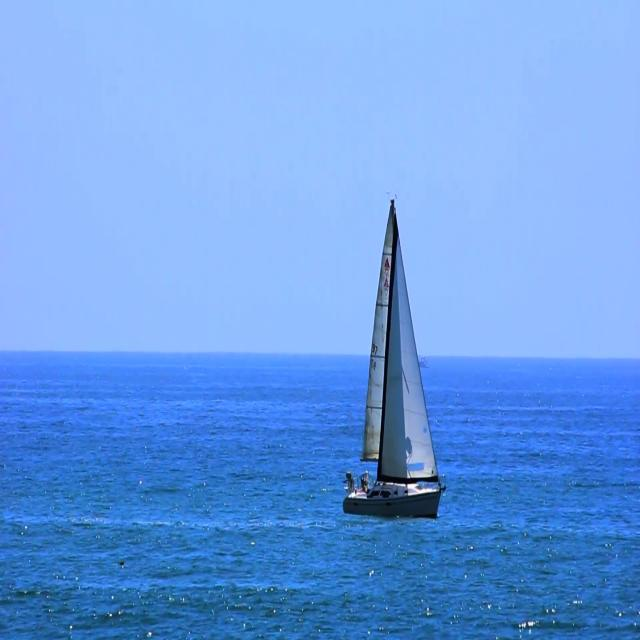houseboat: (416, 350, 429, 372)
sailboat: (340, 188, 442, 522)
